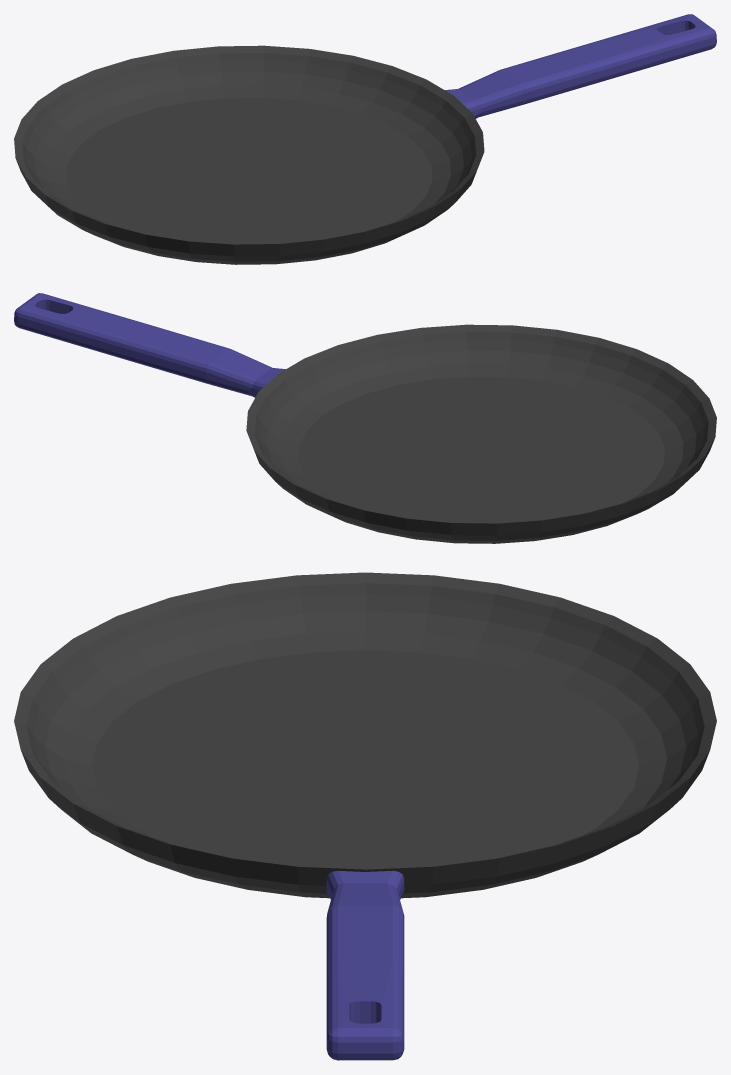
File: poele.fbx
3 renders of one model, top to bottom at view 1: azimuth 30°, elevation 25°; view 2: azimuth 150°, elevation 25°; view 3: azimuth 270°, elevation 25°, orthographic. The views are drawn at different scales.
Parts seen in each view (by area): view 1: Circle; view 2: Circle; view 3: Circle.
Boxes of the visible parts, x1,y1,x2,y2 form: Circle: (14,14,716,264); Circle: (14,293,716,543); Circle: (14,572,716,1060).
Size of the model in its own units: 48.96 by 3.69 by 30.22.
